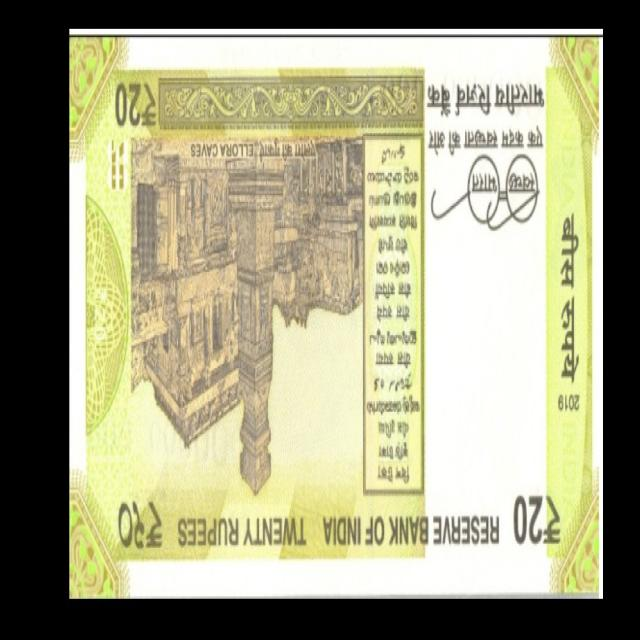20IndianRupees: (70, 39, 600, 596), (68, 38, 429, 590), (300, 39, 602, 600)
